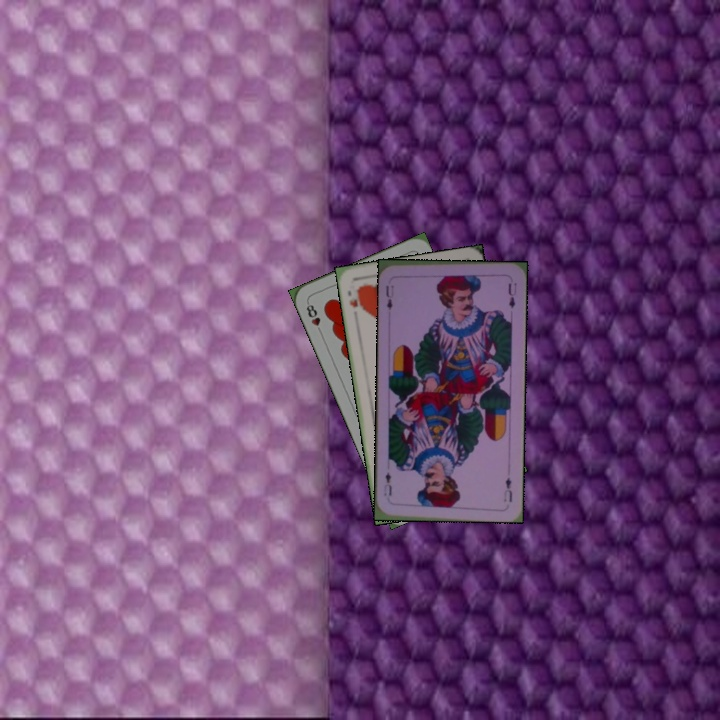EU: (382, 281, 396, 312), (500, 473, 514, 504)
H8: (302, 298, 325, 337)
HO: (344, 282, 364, 310)
